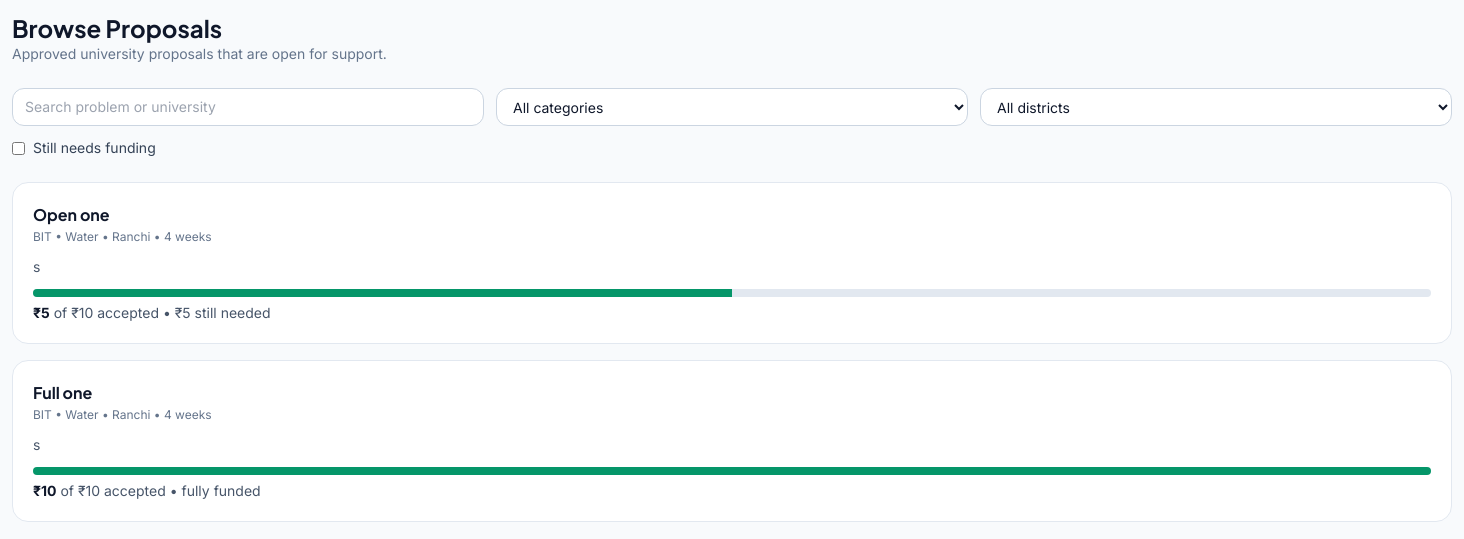
Scenario: BrowseProposals filters by what still needs funding
The width and height of the screenshot is (1464, 539).
Expected: the number of links is 2, [33,204,110,225]; [33,382,92,403]
Click the checkbox labelled "Still needs funding" at (18, 148), box [12,142,25,154]
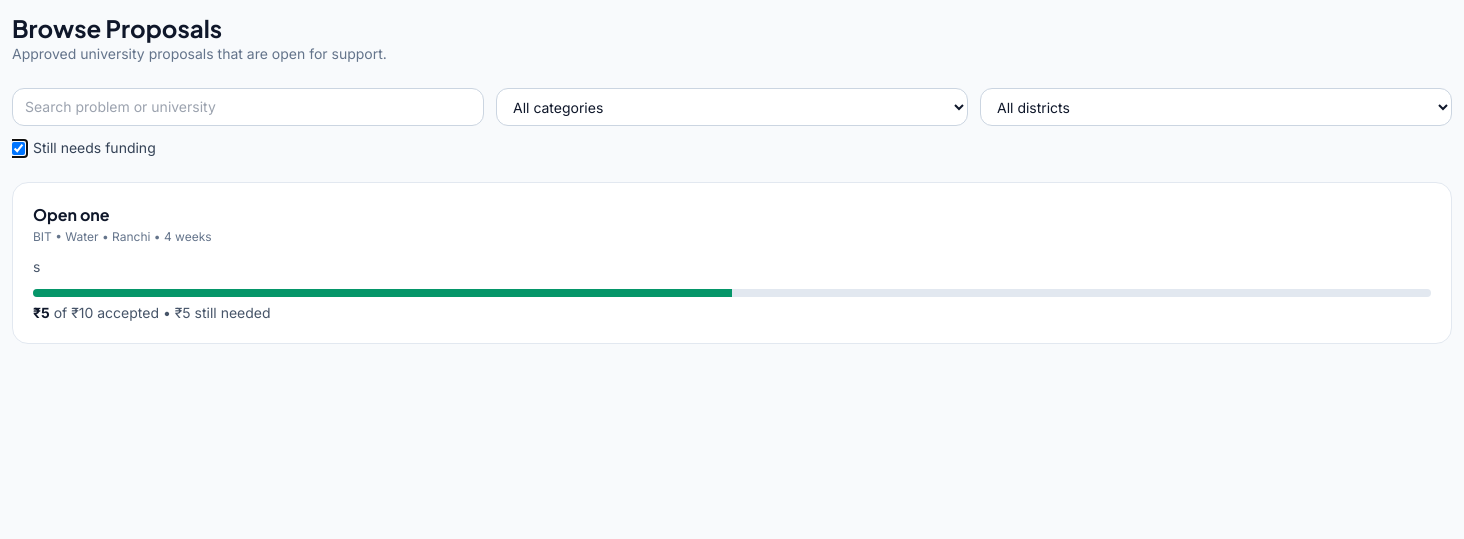
Expected: the links read "Open one", in this order, [33,204,110,225]
Type "zzz" into the search field labelled "Search problem or university" at (248, 107), box [12,88,484,126]
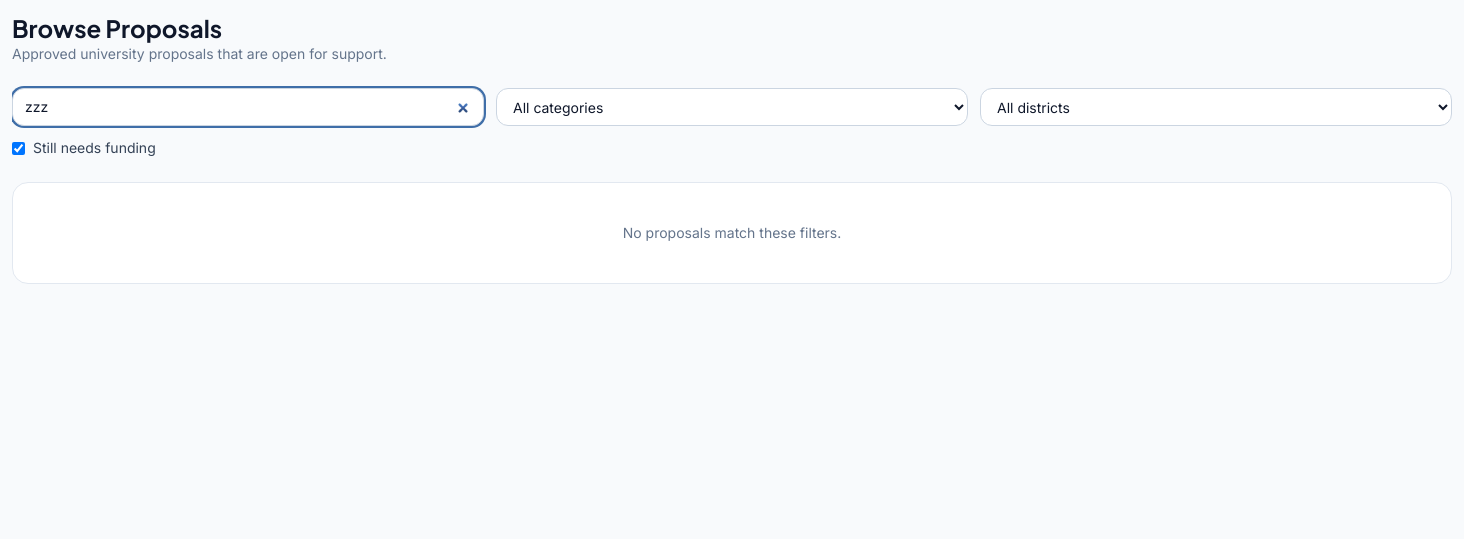
Now the text "No proposals match these filters." is shown, box [12,182,1452,284]
